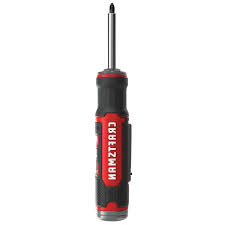Screwdriver: (88, 2, 146, 223)
